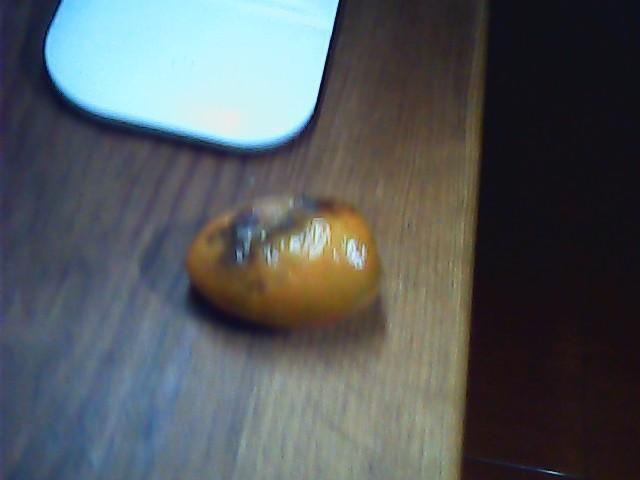defectuoso: (182, 195, 377, 323)
